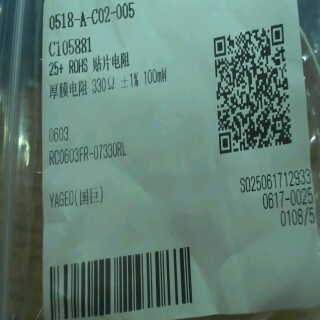330R: (91, 74, 116, 93)
